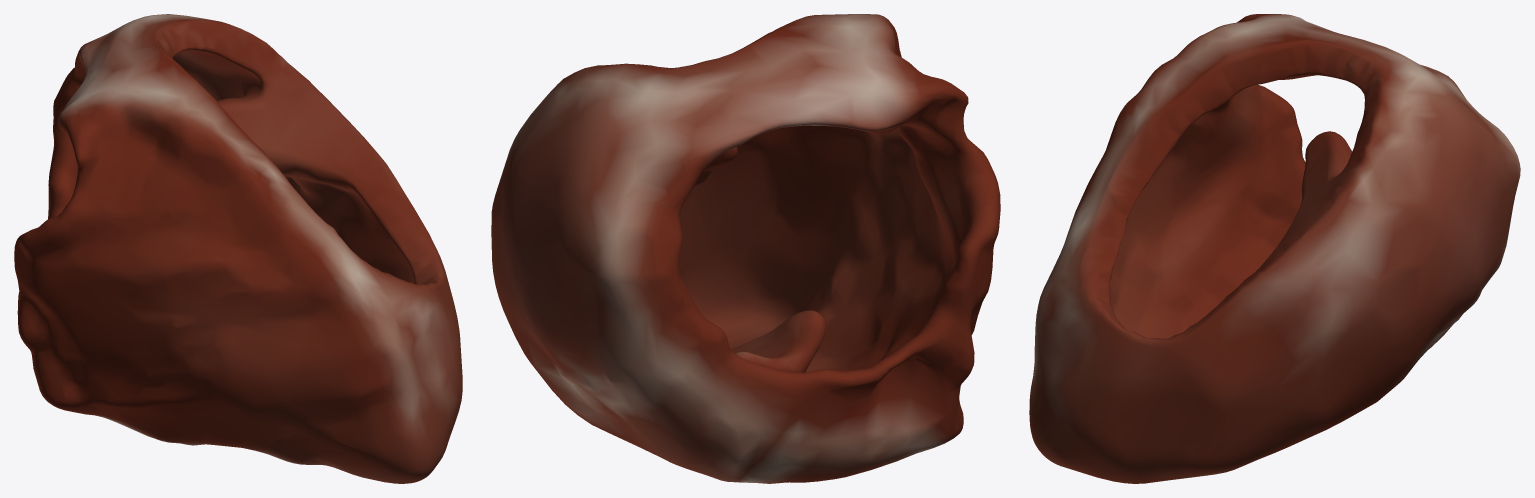
The model's file is VentrilocoEsquerdo.fbx.
3 renders of one model, left to right at view 1: azimuth 30°, elevation 25°; view 2: azimuth 150°, elevation 25°; view 3: azimuth 270°, elevation 25°, orthographic. The views are drawn at different scales.
Parts seen in each view (by area): view 1: linker_ventrikel; view 2: linker_ventrikel; view 3: linker_ventrikel.
Boxes of the visible parts, x1,y1,x2,y2 form: linker_ventrikel: (14, 14, 462, 483); linker_ventrikel: (491, 14, 1000, 483); linker_ventrikel: (1029, 14, 1520, 483).
Size of the model in its own units: 0.7885 by 0.7322 by 0.8837.
